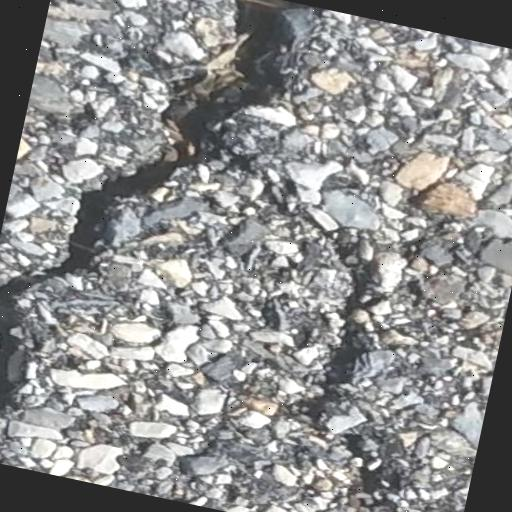spalling: (0, 0, 312, 451)
